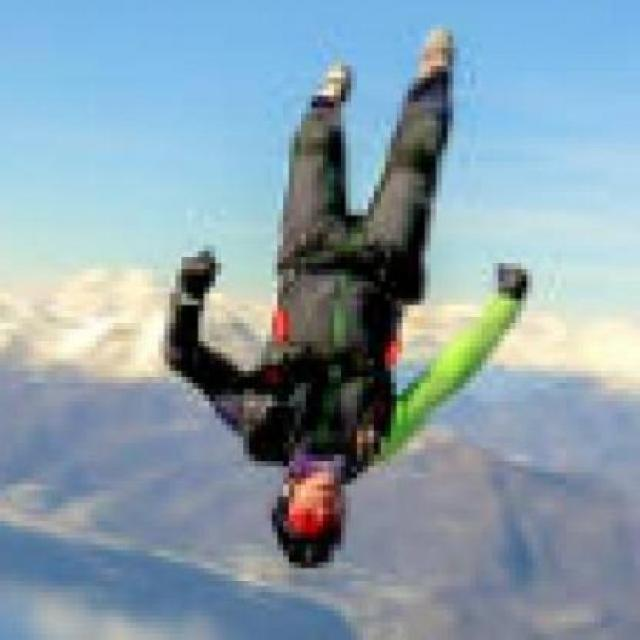fall: (155, 14, 540, 572)
